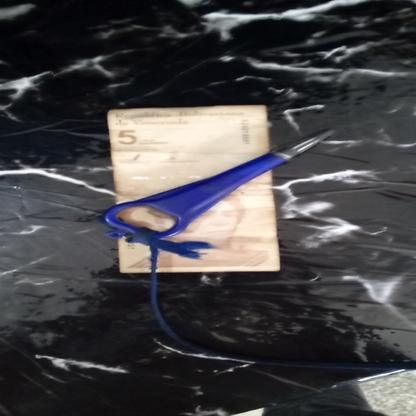vef_front: (108, 104, 281, 272)
